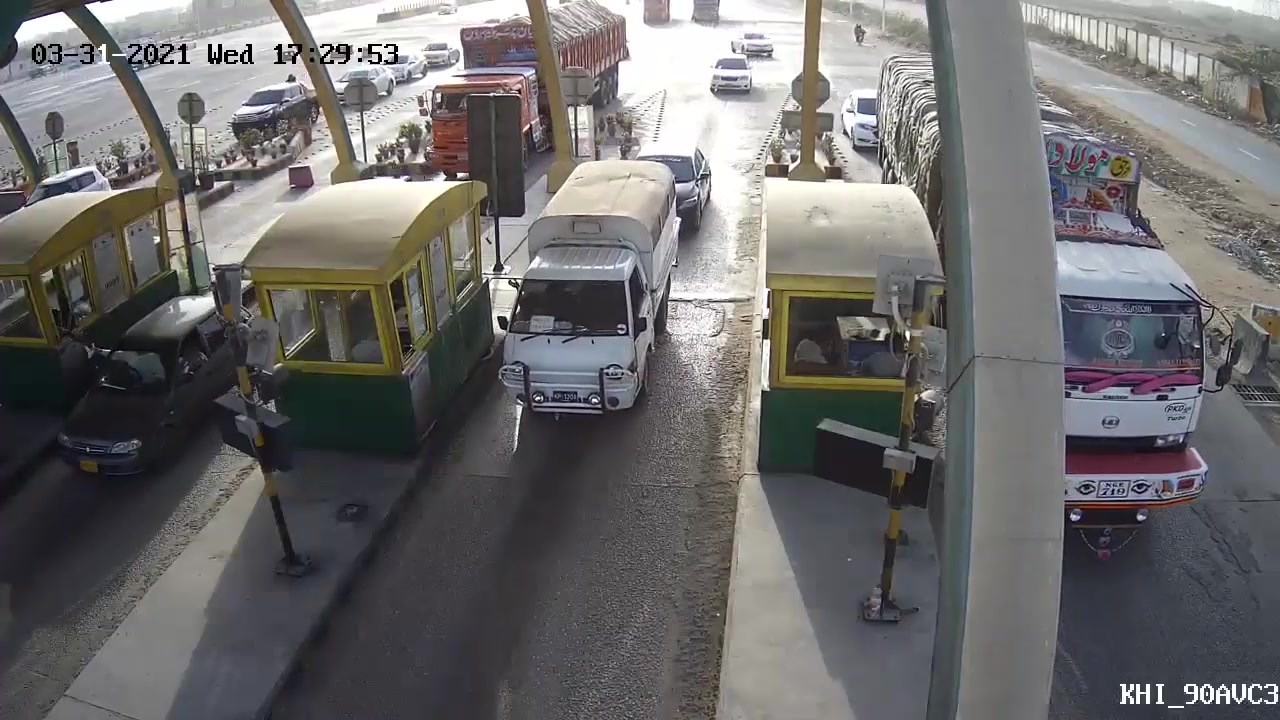F3: (478, 152, 682, 440)
